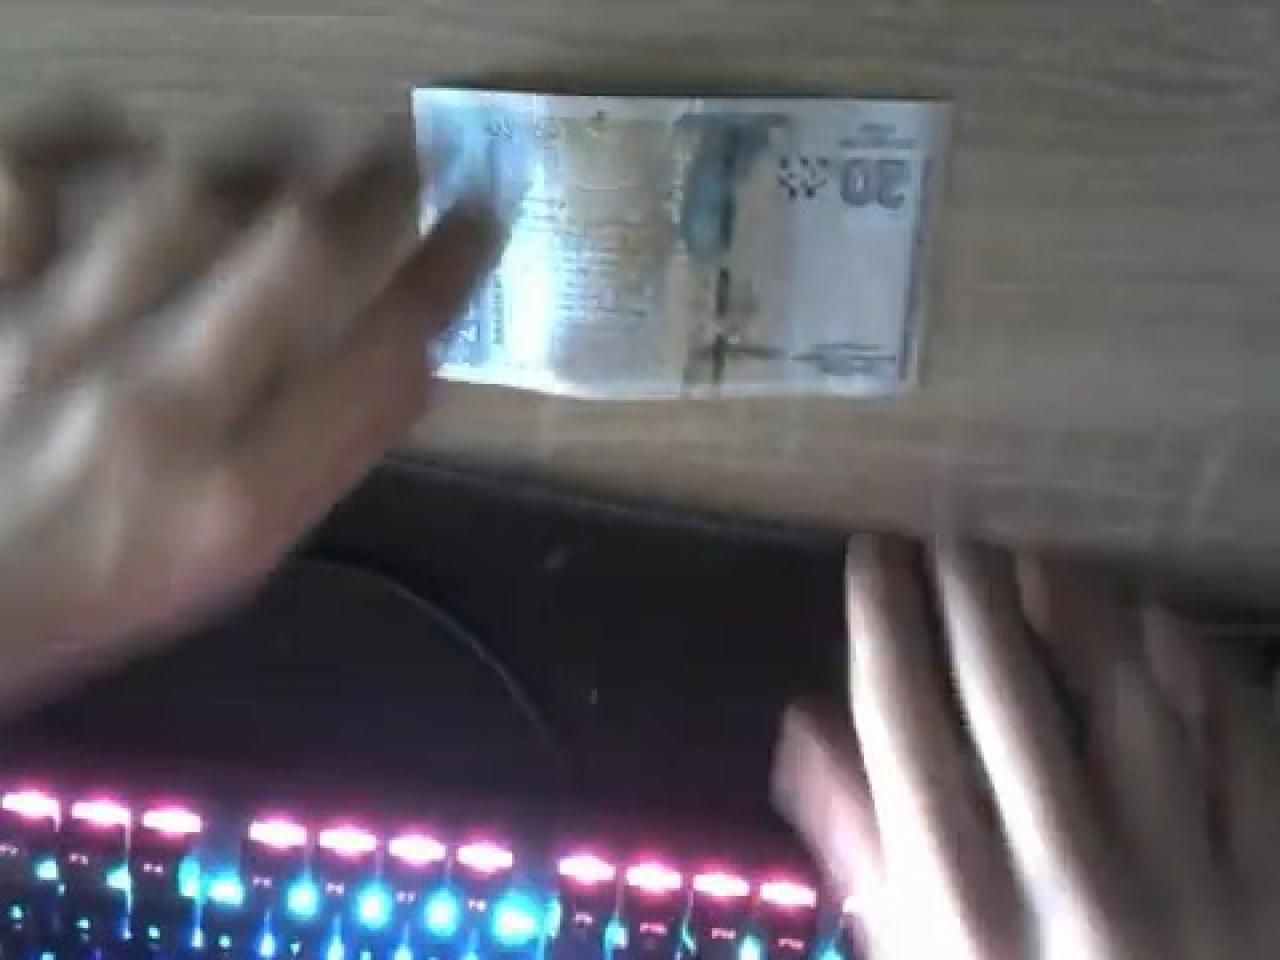20leva: (408, 86, 957, 407)
